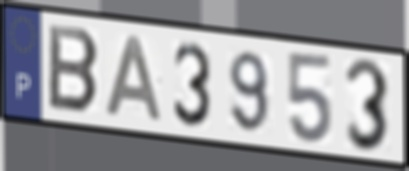3: (343, 56, 393, 156), (171, 39, 214, 130)
5: (285, 50, 335, 147)
9: (226, 48, 275, 135)
A: (102, 32, 165, 124)
B: (46, 21, 103, 117)
